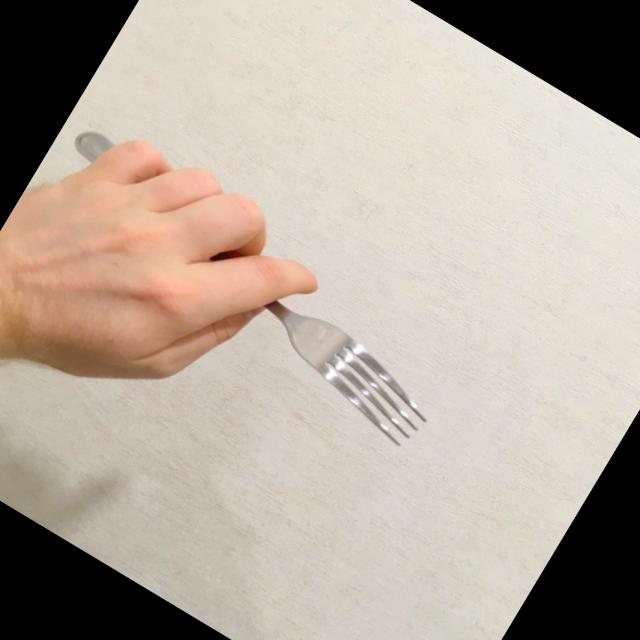fork: (23, 122, 468, 457)
